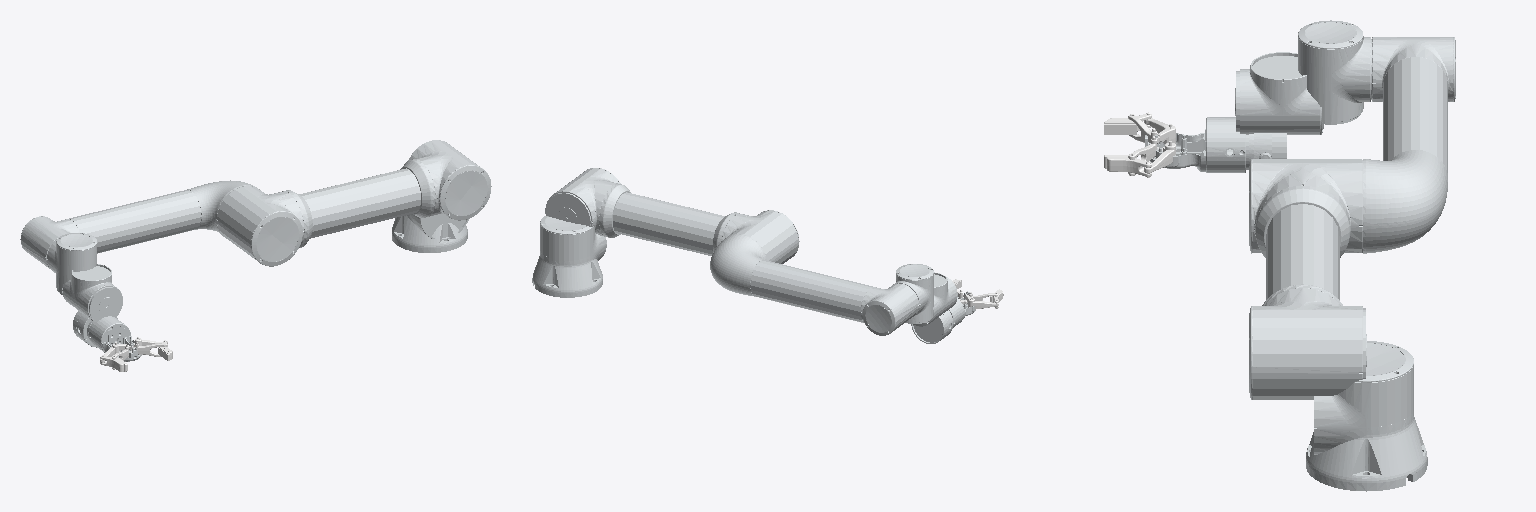
robot.urdf — fairino5_v6_robot:
<?xml version="1.0" encoding="utf-8"?>
<!-- This URDF was automatically created by SolidWorks to URDF Exporter! Originally created by [author] ([email redacted]) 
     Commit Version: 1.5.1-0-g916b5db  Build Version: 1.5.7152.31018
     For more information, please see http://wiki.ros.org/sw_urdf_exporter -->
<robot
  name="fairino5_v6_robot">
  <link
    name="base_link">
    <inertial>
      <origin
        xyz="-0.00031896 -0.00029673 0.042463"
        rpy="0 0 0" />
      <mass
        value="1.6185" />
      <inertia
        ixx="0.0030836"
        ixy="1.5354E-05"
        ixz="-1.9315E-05"
        iyy="0.0030825"
        iyz="-1.7918E-05"
        izz="0.0045209" />
    </inertial>
    <visual>
      <origin
        xyz="0 0 0"
        rpy="0 0 0" />
      <geometry>
        <mesh
          filename="package://fairino_description/meshes/fairino5_v6/base_link.STL" />
      </geometry>
      <material
        name="">
        <color
          rgba="0.89804 0.91765 0.92941 1" />
      </material>
    </visual>
    <collision>
      <origin
        xyz="0 0 0"
        rpy="0 0 0" />
      <geometry>
        <mesh
          filename="package://fairino_description/meshes/fairino5_v6/base_link.STL" />
      </geometry>
    </collision>
  </link>
  <link
    name="shoulder_link">
    <inertial>
      <origin
        xyz="5.0029E-07 -0.0040922 0.14629"
        rpy="0 0 0" />
      <mass
        value="4.3771" />
      <inertia
        ixx="0.010731"
        ixy="-8.0587E-09"
        ixz="-3.6773E-08"
        iyy="0.010408"
        iyz="0.00012853"
        izz="0.0081793" />
    </inertial>
    <visual>
      <origin
        xyz="0 0 0"
        rpy="0 0 0" />
      <geometry>
        <mesh
          filename="package://fairino_description/meshes/fairino5_v6/shoulder_link.STL" />
      </geometry>
      <material
        name="">
        <color
          rgba="0.89804 0.91765 0.92941 1" />
      </material>
    </visual>
    <collision>
      <origin
        xyz="0 0 0"
        rpy="0 0 0" />
      <geometry>
        <mesh
          filename="package://fairino_description/meshes/fairino5_v6/shoulder_link.STL" />
      </geometry>
    </collision>
  </link>
  <joint
    name="j1"
    type="revolute">
    <origin
      xyz="0 0 0"
      rpy="0 0 0" />
    <parent
      link="base_link" />
    <child
      link="shoulder_link" />
    <axis
      xyz="0 0 1" />
    <limit
      lower="-3.0543"
      upper="3.0543"
      effort="150"
      velocity="3.15" />
    <calibration
      rising="0"
      falling="0" />
    <dynamics
      damping="0"
      friction="0" />
<!--    <safety_controller-->
<!--      soft_lower_limit="-3.0543"-->
<!--      soft_upper_limit="3.0543"-->
<!--      k_position="15"-->
<!--      k_velocity="10" />-->
  </joint>
  <link
    name="upperarm_link">
    <inertial>
      <origin
        xyz="-0.2125 -5.7643E-09 0.1346"
        rpy="0 0 0" />
      <mass
        value="14.458" />
      <inertia
        ixx="0.028392"
        ixy="-1.337E-07"
        ixz="-3.9895E-09"
        iyy="0.4559"
        iyz="4.214E-08"
        izz="0.44974" />
    </inertial>
    <visual>
      <origin
        xyz="0 0 0"
        rpy="0 0 0" />
      <geometry>
        <mesh
          filename="package://fairino_description/meshes/fairino5_v6/upperarm_link.STL" />
      </geometry>
      <material
        name="">
        <color
          rgba="0.89804 0.91765 0.92941 1" />
      </material>
    </visual>
    <collision>
      <origin
        xyz="0 0 0"
        rpy="0 0 0" />
      <geometry>
        <mesh
          filename="package://fairino_description/meshes/fairino5_v6/upperarm_link.STL" />
      </geometry>
    </collision>
  </link>
  <joint
    name="j2"
    type="revolute">
    <origin
      xyz="0 0 0.152"
      rpy="1.5708 0 0" />
    <parent
      link="shoulder_link" />
    <child
      link="upperarm_link" />
    <axis
      xyz="0 0 1" />
    <limit
      lower="-4.6251"
      upper="1.4835"
      effort="150"
      velocity="3.15" />
    <calibration
      rising="0"
      falling="0" />
    <dynamics
      damping="0"
      friction="0" />
<!--    <safety_controller-->
<!--      soft_lower_limit="-4.6251"-->
<!--      soft_upper_limit="1.4835"-->
<!--      k_position="15"-->
<!--      k_velocity="10" />-->
  </joint>
  <link
    name="forearm_link">
    <inertial>
      <origin
        xyz="-0.18793 -8.4503E-07 0.0066357"
        rpy="0 0 0" />
      <mass
        value="7.6737" />
      <inertia
        ixx="0.0085096"
        ixy="2.1613E-06"
        ixz="-0.0068678"
        iyy="0.16971"
        iyz="3.7086E-08"
        izz="0.16854" />
    </inertial>
    <visual>
      <origin
        xyz="0 0 0"
        rpy="0 0 0" />
      <geometry>
        <mesh
          filename="package://fairino_description/meshes/fairino5_v6/forearm_link.STL" />
      </geometry>
      <material
        name="">
        <color
          rgba="0.89804 0.91765 0.92941 1" />
      </material>
    </visual>
    <collision>
      <origin
        xyz="0 0 0"
        rpy="0 0 0" />
      <geometry>
        <mesh
          filename="package://fairino_description/meshes/fairino5_v6/forearm_link.STL" />
      </geometry>
    </collision>
  </link>
  <joint
    name="j3"
    type="revolute">
    <origin
      xyz="-0.425 0 0"
      rpy="0 0 0" />
    <parent
      link="upperarm_link" />
    <child
      link="forearm_link" />
    <axis
      xyz="0 0 1" />
    <limit
      lower="-2.8274"
      upper="2.8274"
      effort="150"
      velocity="3.15" />
    <calibration
      rising="0"
      falling="0" />
    <dynamics
      damping="0"
      friction="0" />
<!--    <safety_controller-->
<!--      soft_lower_limit="-2.8274"-->
<!--      soft_upper_limit="2.8274"-->
<!--      k_position="15"-->
<!--      k_velocity="10" />-->
  </joint>
  <link
    name="wrist1_link">
    <inertial>
      <origin
        xyz="4.98E-07 -0.003754 0.097155"
        rpy="0 0 0" />
      <mass
        value="1.6266" />
      <inertia
        ixx="0.00216"
        ixy="4.888E-09"
        ixz="3.1528E-08"
        iyy="0.0015455"
        iyz="3.7678E-05"
        izz="0.0019902" />
    </inertial>
    <visual>
      <origin
        xyz="0 0 0"
        rpy="0 0 0" />
      <geometry>
        <mesh
          filename="package://fairino_description/meshes/fairino5_v6/wrist1_link.STL" />
      </geometry>
      <material
        name="">
        <color
          rgba="0.89804 0.91765 0.92941 1" />
      </material>
    </visual>
    <collision>
      <origin
        xyz="0 0 0"
        rpy="0 0 0" />
      <geometry>
        <mesh
          filename="package://fairino_description/meshes/fairino5_v6/wrist1_link.STL" />
      </geometry>
    </collision>
  </link>
  <joint
    name="j4"
    type="revolute">
    <origin
      xyz="-0.39501 0 0"
      rpy="0 0 0" />
    <parent
      link="forearm_link" />
    <child
      link="wrist1_link" />
    <axis
      xyz="0 0 1" />
    <limit
      lower="-4.6251"
      upper="1.4835"
      effort="28"
      velocity="3.2" />
    <calibration
      rising="0"
      falling="0" />
    <dynamics
      damping="0"
      friction="0" />
<!--    <safety_controller-->
<!--      soft_lower_limit="-4.6251"-->
<!--      soft_upper_limit="1.4835"-->
<!--      k_position="15"-->
<!--      k_velocity="10" />-->
  </joint>
  <link
    name="wrist2_link">
    <inertial>
      <origin
        xyz="-4.5588E-07 0.0038617 0.098257"
        rpy="0 0 0" />
      <mass
        value="1.5812" />
      <inertia
        ixx="0.0020612"
        ixy="8.7064E-09"
        ixz="-3.4742E-08"
        iyy="0.0014477"
        iyz="-2.8534E-05"
        izz="0.0019573" />
    </inertial>
    <visual>
      <origin
        xyz="0 0 0"
        rpy="0 0 0" />
      <geometry>
        <mesh
          filename="package://fairino_description/meshes/fairino5_v6/wrist2_link.STL" />
      </geometry>
      <material
        name="">
        <color
          rgba="0.89804 0.91765 0.92941 1" />
      </material>
    </visual>
    <collision>
      <origins
        xyz="0 0 0"
        rpy="0 0 0" />
      <geometry>
        <mesh
          filename="package://fairino_description/meshes/fairino5_v6/wrist2_link.STL" />
      </geometry>
    </collision>
  </link>
  <joint
    name="j5"
    type="revolute">
    <origin
      xyz="0 0 0.1021"
      rpy="1.5708 0 0" />
    <parent
      link="wrist1_link" />
    <child
      link="wrist2_link" />
    <axis
      xyz="0 0 1" />
    <limit
      lower="-3.0543"
      upper="3.0543"
      effort="28"
      velocity="3.2" />
    <calibration
      rising="0"
      falling="0" />
    <dynamics
      damping="0"
      friction="0" />
<!--    <safety_controller-->
<!--      soft_lower_limit="-3.0543"-->
<!--      soft_upper_limit="3.0543"-->
<!--      k_position="15"-->
<!--      k_velocity="10" />-->
  </joint>
  <link
    name="wrist3_link">
    <inertial>
      <origin
        xyz="7.7496E-05 1.7751E-05 0.076122"
        rpy="0 0 0" />
      <mass
        value="0.52542" />
      <inertia
        ixx="0.00027721"
        ixy="-1.8677E-09"
        ixz="-1.188E-07"
        iyy="0.00027839"
        iyz="2.2607E-07"
        izz="0.00041605" />
    </inertial>
    <visual>
      <origin
        xyz="0 0 0"
        rpy="0 0 0" />
      <geometry>
        <mesh
          filename="package://fairino_description/meshes/fairino5_v6/wrist3_link.STL" />
      </geometry>
      <material
        name="">
        <color
          rgba="0.89804 0.91765 0.92941 1" />
      </material>
    </visual>
    <collision>
      <origin
        xyz="0 0 0"
        rpy="0 0 0" />
      <geometry>
        <mesh
          filename="package://fairino_description/meshes/fairino5_v6/wrist3_link.STL" />
      </geometry>
    </collision>
  </link>
  <joint
    name="j6"
    type="revolute">
    <origin
      xyz="0 0 0.102"
      rpy="-1.5708 0 0" />
    <parent
      link="wrist2_link" />
    <child
      link="wrist3_link" />
    <axis
      xyz="0 0 1" />
    <limit
      lower="-3.0543"
      upper="3.0543"
      effort="28"
      velocity="3.2" />
    <calibration
      rising="0"
      falling="0" />
    <dynamics
      damping="0"
      friction="0" />
<!--    <safety_controller-->
<!--      soft_lower_limit="-3.0543"-->
<!--      soft_upper_limit="3.0543"-->
<!--      k_position="15"-->
<!--      k_velocity="10" />-->
  </joint>
  <link 
    name="gripper_link1_left">
    <inertial>
      <origin
              xyz="0.00861879642773866 -0.00692892768995967 -0.0138491969037787"
              rpy="0 0 0" />
      <mass
              value="0.011093636660722" />
      <inertia
              ixx="1.08934890488146E-06"
              ixy="9.14784315436547E-07"
              ixz="-2.72327027270803E-07"
              iyy="3.7244617985658E-06"
              iyz="-3.30196602144741E-08"
              izz="4.12126588200292E-06" />
    </inertial>
    <visual>
      <origin
              xyz="0 0 0"
              rpy="0 0 0" />
      <geometry>
        <mesh
                filename="package://fairino_description/meshes/fairino5_v6/gripper_link1_left.STL" />
      </geometry>
      <material
              name="">
        <color
                rgba="1 1 1 1" />
      </material>
    </visual>
    <collision>
      <origin
              xyz="0 0 0"
              rpy="0 0 0" />
      <geometry>
        <mesh
                filename="package://fairino_description/meshes/fairino5_v6/gripper_link1_left.STL" />
      </geometry>
    </collision>
  </link>
  <joint
          name="gripper_joint1_left"
          type="revolute">
    <origin
            xyz="0.025 0.01295 0.1377"
            rpy="-1.5708 0 0" />
    <parent
            link="wrist3_link" />
    <child
            link="gripper_link1_left" />
    <limit
            lower="-1.026"
            upper="0.0"
            effort="0.0"
            velocity="0.0" />
    <axis
            xyz="0 0 1" />
  </joint>
  <link
          name="gripper_link3_left">
    <inertial>
      <origin
              xyz="-0.014334790338123 0.0267713170536268 0.00950100988902113"
              rpy="0 0 0" />
      <mass
              value="0.010606965856657" />
      <inertia
              ixx="2.21321677437824E-06"
              ixy="3.74961617991863E-07"
              ixz="-8.78418529092171E-13"
              iyy="4.64511110876489E-07"
              iyz="3.35600108017678E-12"
              izz="2.12521562895475E-06" />
    </inertial>
    <visual>
      <origin
              xyz="0 0 0"
              rpy="0 0 0" />
      <geometry>
        <mesh
                filename="package://fairino_description/meshes/fairino5_v6/gripper_link3_left.STL" />
      </geometry>
      <material
              name="">
        <color
                rgba="1 1 1 1" />
      </material>
    </visual>
    <collision>
      <origin
              xyz="0 0 0"
              rpy="0 0 0" />
      <geometry>
        <mesh
                filename="package://fairino_description/meshes/fairino5_v6/gripper_link3_left.STL" />
      </geometry>
    </collision>
  </link>
  <joint
          name="gripper_joint3_left"
          type="continuous">
    <origin
            xyz="0.045648 -0.026931 -0.00345"
            rpy="3.1416 0 0" />
    <parent
            link="gripper_link1_left" />
    <child
            link="gripper_link3_left" />
    <axis
            xyz="0 0 1" />
    <mimic
            joint="gripper_joint1_left"
            multiplier="1"
            offset="0" />
  </joint>
  <link
          name="gripper_link2_left">
    <inertial>
      <origin
              xyz="0.0178239345820016 -0.0105147724306264 -0.0127148556432755"
              rpy="0 0 0" />
      <mass
              value="0.00620002211597296" />
      <inertia
              ixx="7.9560070463818E-07"
              ixy="7.00601361842959E-07"
              ixz="-3.75396894165927E-12"
              iyy="1.56948221841704E-06"
              iyz="3.08077226459159E-12"
              izz="1.65589855616728E-06" />
    </inertial>
    <visual>
      <origin
              xyz="0 0 0"
              rpy="0 0 0" />
      <geometry>
        <mesh
                filename="package://fairino_description/meshes/fairino5_v6/gripper_link2_left.STL" />
      </geometry>
      <material
              name="">
        <color
                rgba="1 1 1 1" />
      </material>
    </visual>
    <collision>
      <origin
              xyz="0 0 0"
              rpy="0 0 0" />
      <geometry>
        <mesh
                filename="package://fairino_description/meshes/fairino5_v6/gripper_link2_left.STL" />
      </geometry>
    </collision>
  </link>
  <joint
          name="gripper_joint2_left"
          type="continuous">
    <origin
            xyz="0.0115 0.01295 0.1577"
            rpy="-1.5708 0 0" />
    <parent
            link="wrist3_link" />
    <child
            link="gripper_link2_left" />
    <axis
            xyz="0 0 1" />
    <mimic
            joint="gripper_joint1_left"
            multiplier="1"
            offset="0" />
  </joint>
  <link
          name="gripper_link1_right">
    <inertial>
      <origin
              xyz="-0.0086188 0.0069289 0.011788"
              rpy="0 0 0" />
      <mass
              value="0.011094" />
      <inertia
              ixx="1.0893E-06"
              ixy="9.1478E-07"
              ixz="2.7233E-07"
              iyy="3.7245E-06"
              iyz="3.302E-08"
              izz="4.1213E-06" />
    </inertial>
    <visual>
      <origin
              xyz="0 0 0"
              rpy="0 0 0" />
      <geometry>
        <mesh
                filename="package://fairino_description/meshes/fairino5_v6/gripper_link1_right.STL" />
      </geometry>
      <material
              name="">
        <color
                rgba="1 1 1 1" />
      </material>
    </visual>
    <collision>
      <origin
              xyz="0 0 0"
              rpy="0 0 0" />
      <geometry>
        <mesh
                filename="package://fairino_description/meshes/fairino5_v6/gripper_link1_right.STL" />
      </geometry>
    </collision>
  </link>
  <joint
          name="gripper_joint1_right"
          type="continuous">
    <origin
            xyz="-0.025 0.01295 0.1377"
            rpy="1.5708 0 0" />
    <parent
            link="wrist3_link" />
    <child
            link="gripper_link1_right" />
    <axis
            xyz="0 0 1" />
    <mimic
            joint="gripper_joint1_left"
            multiplier="1"
            offset="0" />
  </joint>
  <link
          name="gripper_link3_right">
    <inertial>
      <origin
              xyz="0.014421 -0.02676 -0.010499"
              rpy="0 0 0" />
      <mass
              value="0.010771" />
      <inertia
              ixx="2.2138E-06"
              ixy="3.7495E-07"
              ixz="8.7931E-13"
              iyy="4.6637E-07"
              iyz="-3.3563E-12"
              izz="2.1271E-06" />
    </inertial>
    <visual>
      <origin
              xyz="0 0 0"
              rpy="0 0 0" />
      <geometry>
        <mesh
                filename="package://fairino_description/meshes/fairino5_v6/gripper_link3_right.STL" />
      </geometry>
      <material
              name="">
        <color
                rgba="1 1 1 1" />
      </material>
    </visual>
    <collision>
      <origin
              xyz="0 0 0"
              rpy="0 0 0" />
      <geometry>
        <mesh
                filename="package://fairino_description/meshes/fairino5_v6/gripper_link3_right.STL" />
      </geometry>
    </collision>
  </link>
  <joint
          name="gripper_joint3_right"
          type="continuous">
    <origin
            xyz="-0.045648 0.026931 0.00245"
            rpy="-3.1416 0 0" />
    <parent
            link="gripper_link1_right" />
    <child
            link="gripper_link3_right" />
    <axis
            xyz="0 0 1" />
    <mimic
            joint="gripper_joint1_left"
            multiplier="1"
            offset="0" />
  </joint>
  <link
          name="gripper_link2_right">
    <inertial>
      <origin
              xyz="-0.017824 0.010515 0.012715"
              rpy="0 0 0" />
      <mass
              value="0.0062" />
      <inertia
              ixx="7.956E-07"
              ixy="7.006E-07"
              ixz="3.754E-12"
              iyy="1.5695E-06"
              iyz="-3.0808E-12"
              izz="1.6559E-06" />
    </inertial>
    <visual>
      <origin
              xyz="0 0 0"
              rpy="0 0 0" />
      <geometry>
        <mesh
                filename="package://fairino_description/meshes/fairino5_v6/gripper_link2_right.STL" />
      </geometry>
      <material
              name="">
        <color
                rgba="1 1 1 1" />
      </material>
    </visual>
    <collision>
      <origin
              xyz="0 0 0"
              rpy="0 0 0" />
      <geometry>
        <mesh
                filename="package://fairino_description/meshes/fairino5_v6/gripper_link2_right.STL" />
      </geometry>
    </collision>
  </link>
  <joint
          name="gripper_joint2_right"
          type="continuous">
    <origin
            xyz="-0.0115 0.01295 0.1577"
            rpy="1.5708 0 0" />
    <parent
            link="wrist3_link" />
    <child
            link="gripper_link2_right" />
    <axis
            xyz="0 0 1" />
    <mimic
            joint="gripper_joint1_left"
            multiplier="1"
            offset="0" />
  </joint>

  <link name="tool_frame" />
  <joint name="tool_joint" type="fixed">
    <origin xyz="0 0 0.22" rpy="0 0 0" />
    <parent link="wrist3_link" />
    <child link="tool_frame" />
  </joint>
</robot>

--- Facts derived from the render (not from the file) ---
3 views of the same robot in one strip: view 1: azimuth 30°, elevation 25°; view 2: azimuth 150°, elevation 25°; view 3: azimuth 270°, elevation 25° (orthographic).
Model fairino5_v6_robot with 14 links and 13 joints (7 revolute, 5 continuous, 1 fixed), rooted at base_link, posed all joints at 0.
Links seen in each view (by area): view 1: upperarm_link, forearm_link, wrist2_link, wrist1_link, base_link, wrist3_link, shoulder_link; view 2: upperarm_link, forearm_link, base_link, shoulder_link, wrist1_link, wrist3_link, wrist2_link; view 3: upperarm_link, forearm_link, shoulder_link, wrist1_link, base_link, wrist2_link, wrist3_link, gripper_link3_left, gripper_link3_right.
Boxes of the visible links, <box> form: upperarm_link: <box>217,140,491,266</box>; forearm_link: <box>20,180,259,268</box>; wrist2_link: <box>62,264,122,321</box>; wrist1_link: <box>47,233,96,294</box>; base_link: <box>392,215,467,252</box>; wrist3_link: <box>73,310,141,361</box>; shoulder_link: <box>400,169,468,239</box>; upperarm_link: <box>545,168,799,263</box>; forearm_link: <box>710,234,918,335</box>; base_link: <box>532,251,602,297</box>; shoulder_link: <box>540,216,606,264</box>; wrist1_link: <box>893,264,933,323</box>; wrist3_link: <box>911,291,975,343</box>; wrist2_link: <box>913,272,957,326</box>; upperarm_link: <box>1249,159,1366,399</box>; forearm_link: <box>1363,37,1455,253</box>; shoulder_link: <box>1314,341,1413,454</box>; wrist1_link: <box>1298,20,1370,124</box>; base_link: <box>1306,410,1427,491</box>; wrist2_link: <box>1235,52,1323,134</box>; wrist3_link: <box>1145,117,1286,172</box>; gripper_link3_left: <box>1104,155,1151,177</box>; gripper_link3_right: <box>1104,112,1151,134</box>.
Bounding box of the posed robot: 0.9704 × 0.4307 × 0.21 m (x, y, z).
Meshes: 13 distinct files referenced, 13 mesh visuals loaded (13 binary STL).
